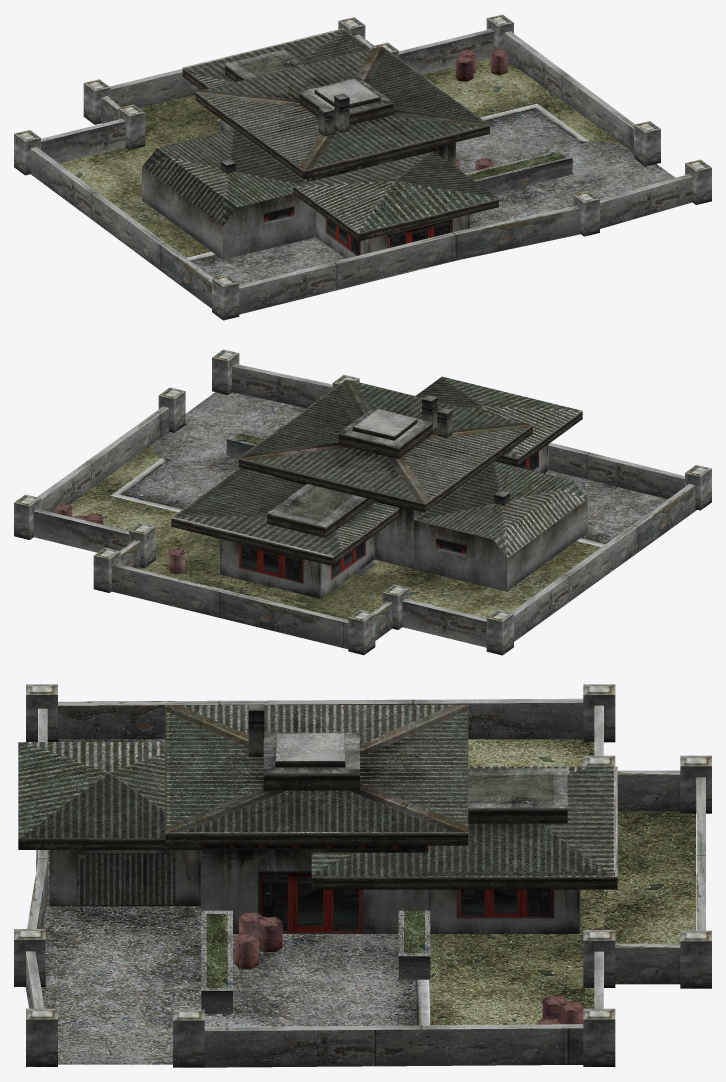
The model's file is Map.obj.
3 renders of one model, top to bottom at view 1: azimuth 30°, elevation 25°; view 2: azimuth 150°, elevation 25°; view 3: azimuth 270°, elevation 25°, orthographic. The views are drawn at different scales.
Parts seen in each view (by area): view 1: Object03; view 2: Object03; view 3: Object03.
Boxes of the visible parts, x1=… form: Object03: x1=14, y1=14, x2=711, y2=320; Object03: x1=14, y1=349, x2=711, y2=655; Object03: x1=14, y1=684, x2=711, y2=1067.
Size of what is drawn, in the model's own units: 1654 by 378 by 1450.
